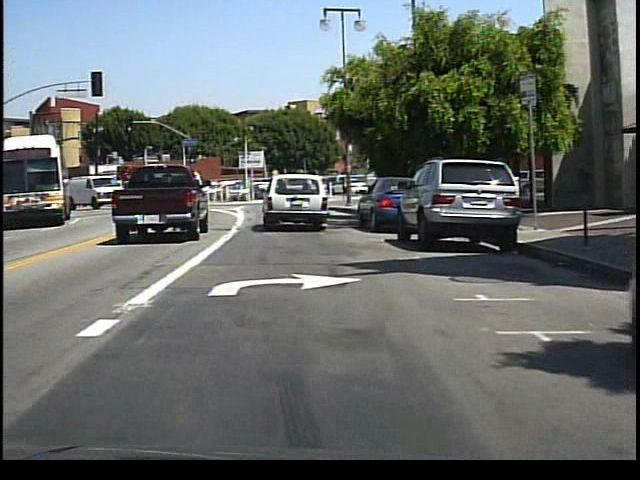person: (342, 176, 349, 203)
